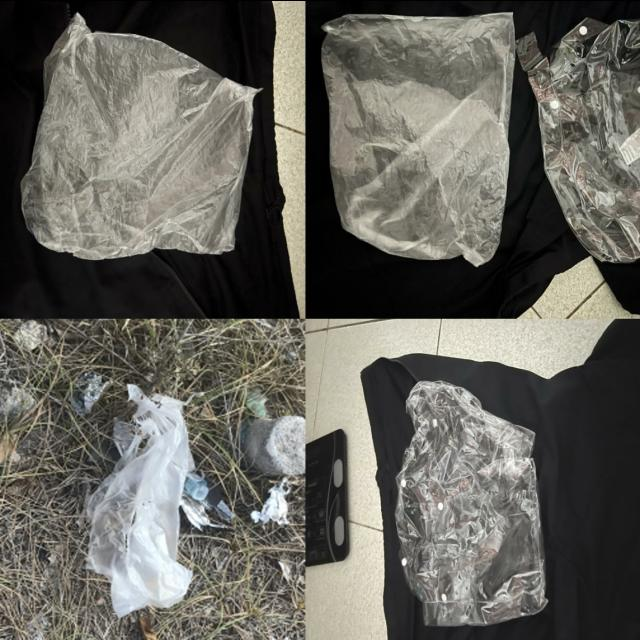plastik: (21, 12, 260, 259), (322, 12, 515, 265), (396, 379, 548, 625), (515, 18, 640, 261), (86, 383, 194, 615)
